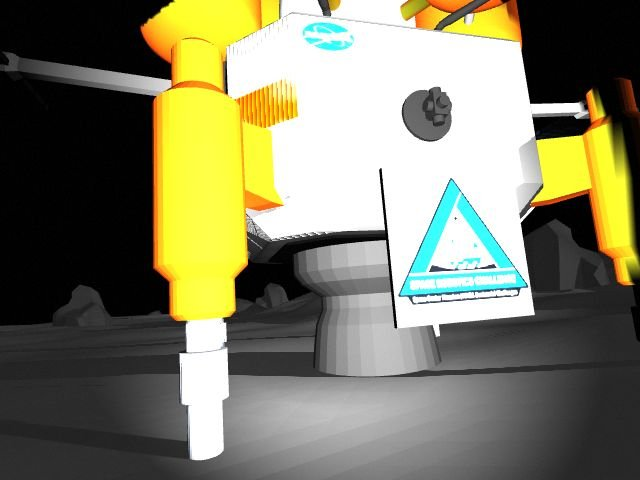basemarker: (399, 177, 528, 306)
